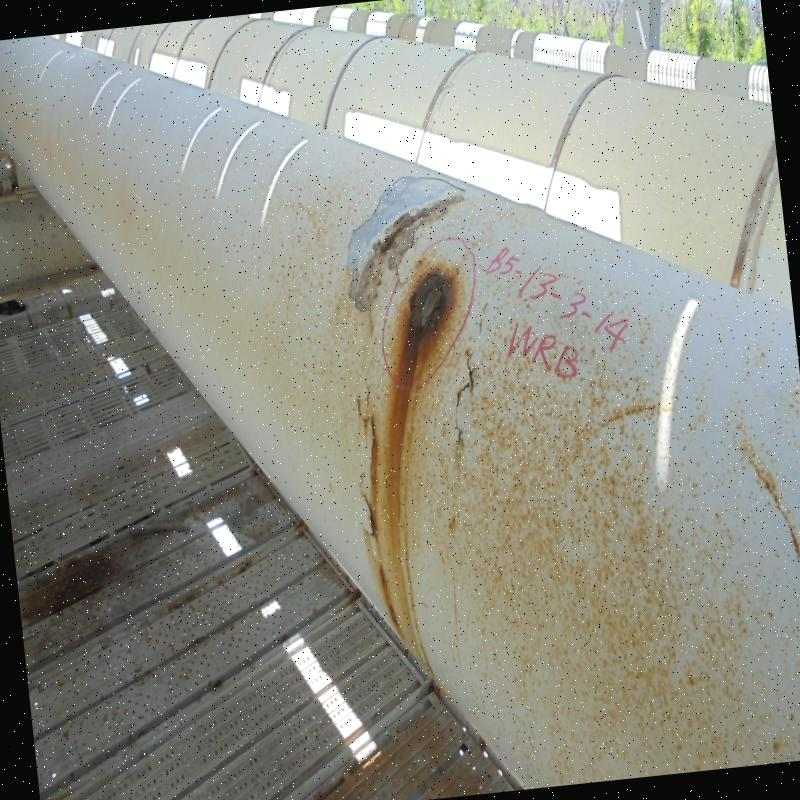corrosion: (403, 276, 453, 322), (378, 447, 404, 502), (388, 356, 418, 403)
